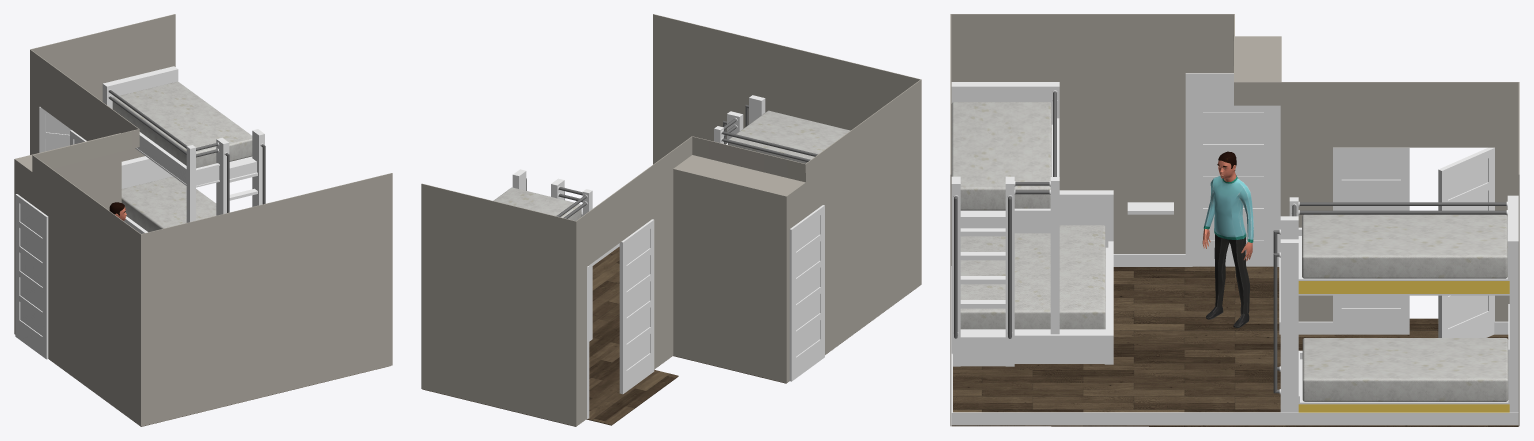
The model's file is scene-2-bunks.glb.
3 views of the same model, side by side, from view 1: azimuth 30°, elevation 25°; view 2: azimuth 150°, elevation 25°; view 3: azimuth 270°, elevation 25° (orthographic). The views are drawn at different scales.
Visible parts, largest first — view 1: innerWall.001, innerWall, innerWall.002, upper-mattress, Cube.004, upper-mattress.001, Cube.001, lower-molding-head-front, upper-molding-head-front, twin-bunk-leg-head-right, upper-rail-right, twin-ladder-leg-left (+2 smaller); view 2: innerWall, innerWall.002, innerWall.001, floor, Cube.004, Cube.006, twin-mattress, upper-mattress, twin-bunk-leg-head-right; view 3: innerWall, floor, upper-mattress, upper-mattress.001, queen-queen, Cube.004, twin-mattress, floor.001, Cube.006, Cube.001, Human 2, Plane.002 (+27 smaller).
Part boxes in pixels (<box>): innerWall.001: <box>141,173,392,426</box>; innerWall: <box>14,49,141,426</box>; innerWall.002: <box>31,14,175,161</box>; upper-mattress: <box>112,81,252,168</box>; Cube.004: <box>15,194,48,359</box>; upper-mattress.001: <box>121,176,216,232</box>; Cube.001: <box>39,107,71,152</box>; lower-molding-head-front: <box>121,160,172,188</box>; upper-molding-head-front: <box>106,70,178,108</box>; twin-bunk-leg-head-right: <box>186,145,195,222</box>; upper-rail-right: <box>137,136,186,183</box>; twin-ladder-leg-left: <box>255,131,264,205</box>; innerWall: <box>575,79,921,426</box>; innerWall.002: <box>421,183,575,426</box>; innerWall.001: <box>653,14,920,164</box>; floor: <box>422,246,786,426</box>; Cube.004: <box>789,205,824,381</box>; Cube.006: <box>619,219,654,394</box>; twin-mattress: <box>728,110,850,163</box>; upper-mattress: <box>493,187,581,220</box>; twin-bunk-leg-head-right: <box>582,189,592,341</box>; innerWall: <box>950,14,1519,321</box>; floor: <box>951,266,1518,426</box>; upper-mattress: <box>1302,214,1507,278</box>; upper-mattress.001: <box>1302,338,1508,401</box>; queen-queen: <box>960,225,1105,329</box>; Cube.004: <box>1192,80,1273,266</box>; twin-mattress: <box>951,102,1051,210</box>; floor.001: <box>951,254,1518,425</box>; Cube.006: <box>1333,147,1409,334</box>; Cube.001: <box>1438,147,1494,337</box>; Human 2: <box>1202,151,1253,327</box>; Plane.002: <box>1185,73,1280,263</box>.
Bounding box in the file's own units: 3.78 × 2.75 × 5.62.
Materials: 19 (6 with a texture image).
